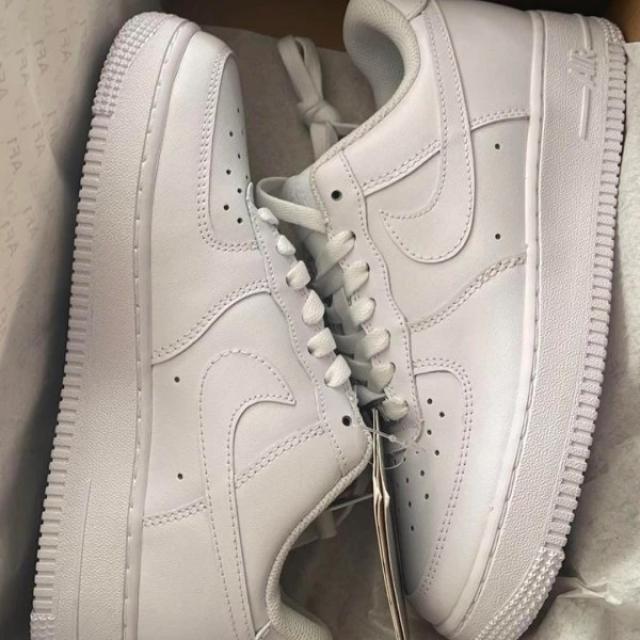nike original air force: (264, 0, 628, 640), (28, 9, 365, 640)
